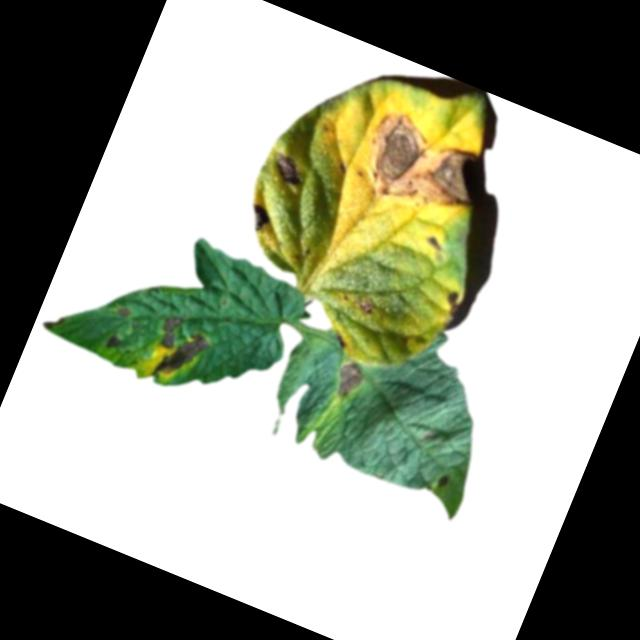Early_blight: (352, 105, 493, 228), (148, 320, 212, 393), (329, 360, 366, 403), (266, 152, 307, 190), (154, 312, 184, 352), (242, 201, 274, 235), (438, 290, 462, 320), (353, 294, 376, 316), (101, 331, 122, 353), (423, 233, 444, 251), (111, 304, 129, 320), (435, 473, 450, 490)
